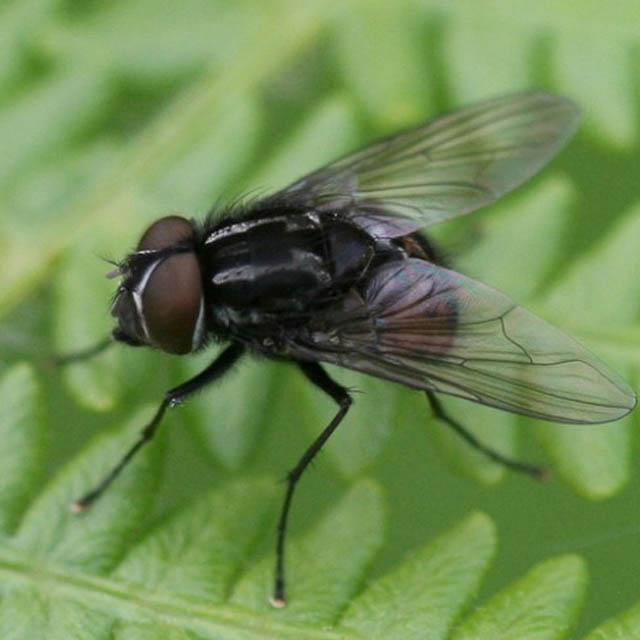green bottles flies: (75, 38, 636, 632)
